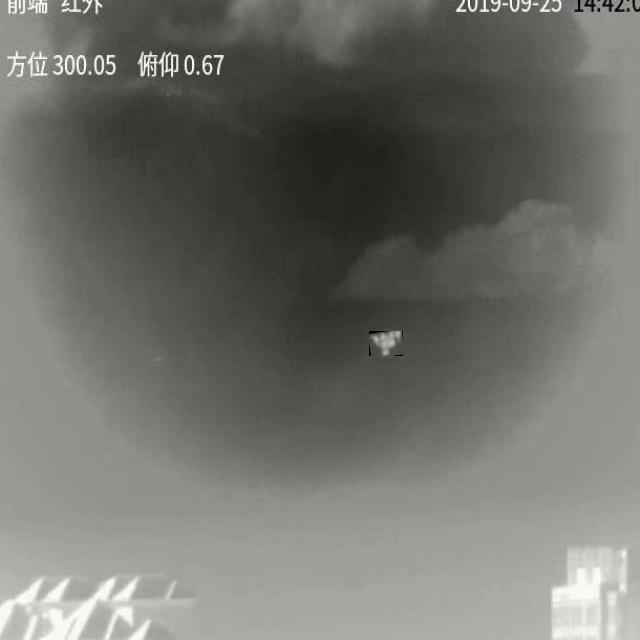drone: (369, 331, 401, 356)
